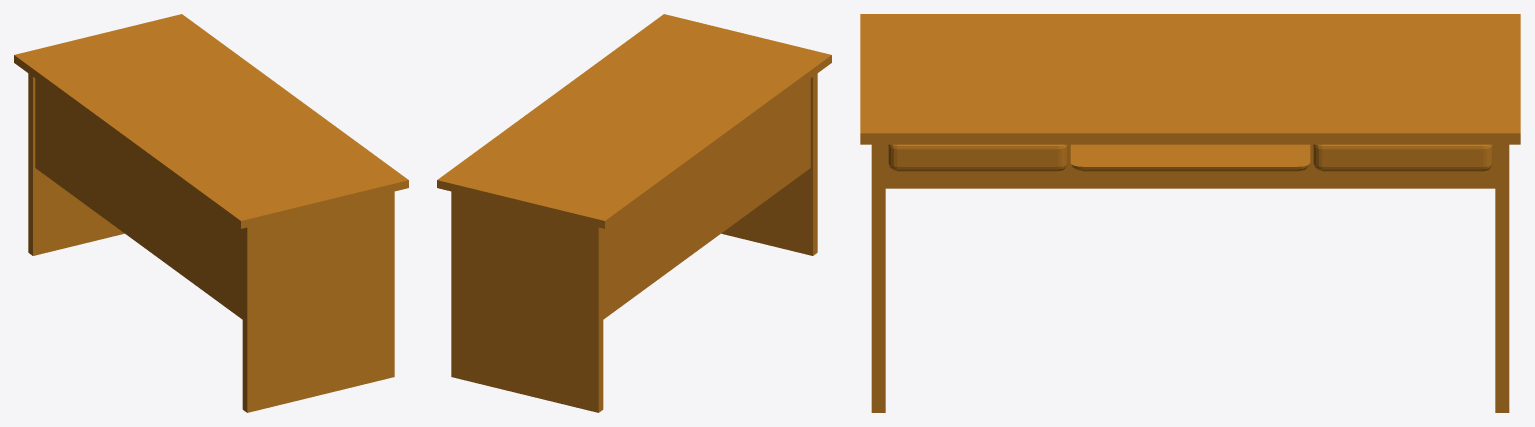
The model's file is desk.dae.
The picture shows the model from 3 angles, left to right: view 1: azimuth 30°, elevation 25°; view 2: azimuth 150°, elevation 25°; view 3: azimuth 270°, elevation 25°; orthographic projection. The views are drawn at different scales.
Parts seen in each view (by area): view 1: obj1 (×4); view 2: obj1 (×4); view 3: obj1 (×4), obj2 (×2), obj3.
Part boxes in pixels (box(x1,y1,x2,y2)): obj1 (×4): box(14, 14, 408, 412); obj1 (×4): box(437, 14, 831, 412); obj1 (×4): box(860, 14, 1520, 412); obj2 (×2): box(888, 144, 1492, 171); obj3: box(1070, 144, 1310, 171).
Size of the model in its own units: 24.36 by 57.05 by 27.37.
